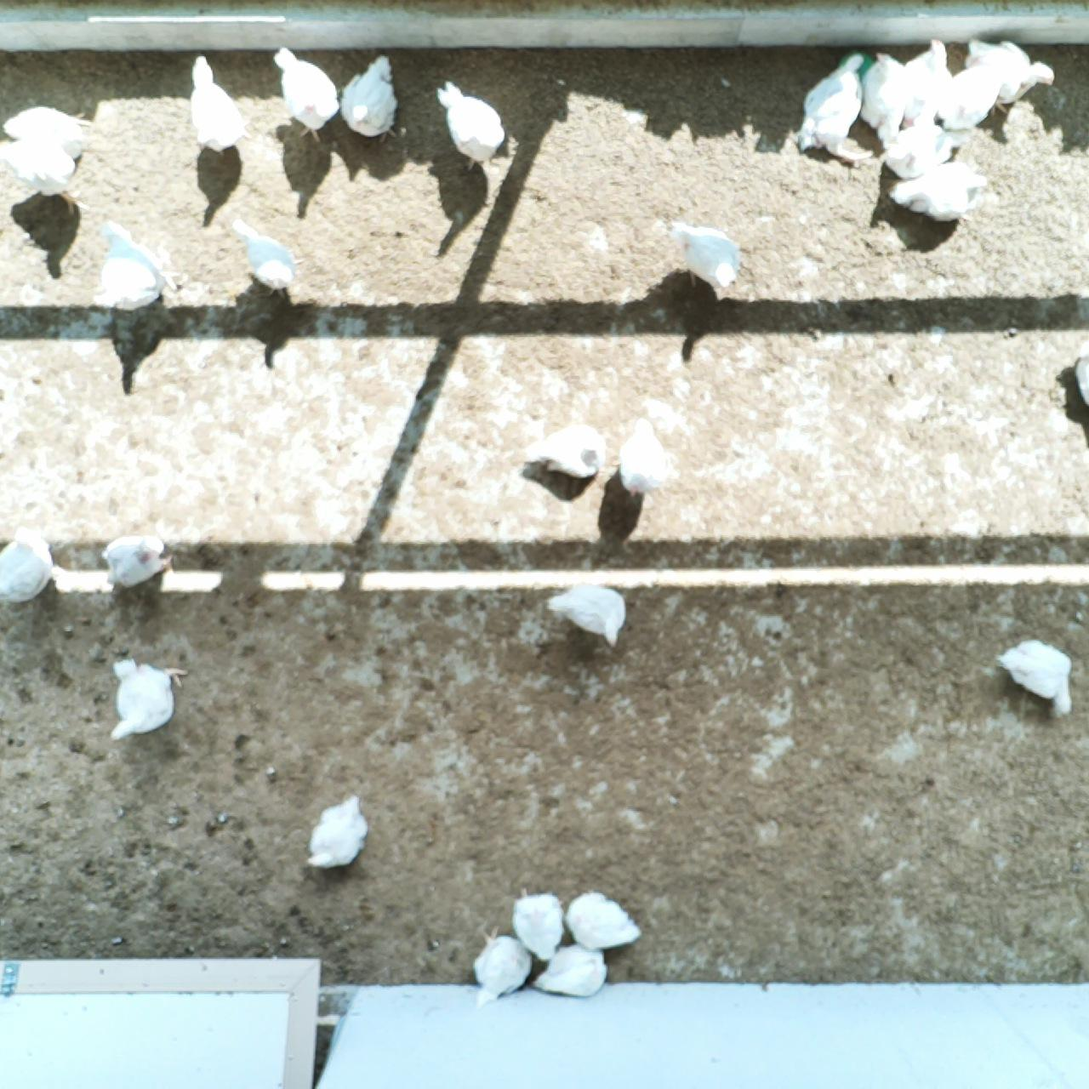chicken: (791, 48, 878, 171), (88, 216, 184, 320), (106, 652, 191, 748), (961, 36, 1059, 119), (430, 75, 509, 177), (268, 43, 342, 146), (183, 52, 254, 156), (993, 633, 1076, 720), (885, 158, 991, 226), (0, 134, 82, 219), (227, 215, 302, 303), (544, 577, 628, 653), (470, 920, 536, 1013), (521, 418, 611, 486), (664, 218, 743, 295), (878, 119, 969, 184), (340, 53, 402, 148), (302, 792, 371, 875), (0, 100, 92, 161), (561, 886, 644, 953), (938, 54, 1008, 132), (858, 48, 910, 151), (899, 35, 954, 132), (506, 882, 568, 966), (96, 530, 179, 592), (0, 521, 57, 607), (616, 413, 671, 501), (533, 941, 610, 1001), (1072, 347, 1089, 407)
